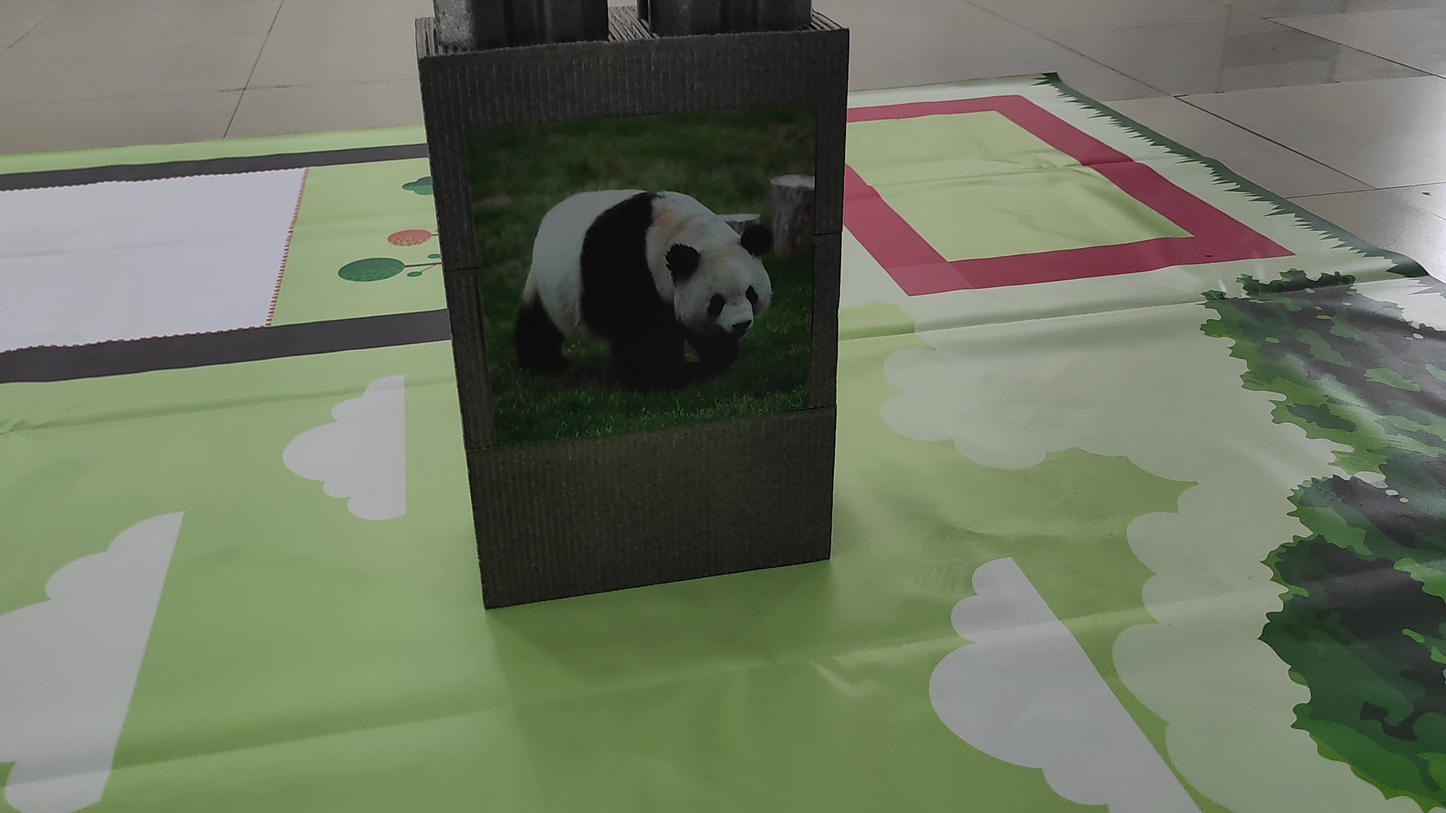panda: (489, 170, 786, 402)
